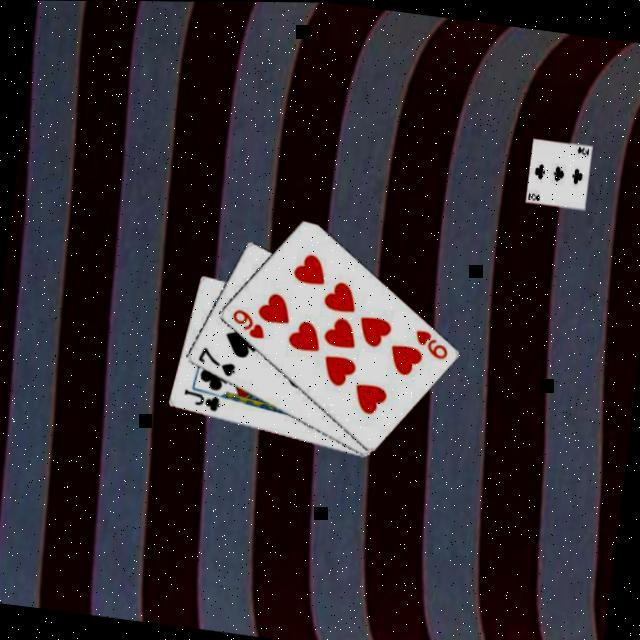7S: (194, 342, 241, 378)
9H: (228, 303, 272, 340), (411, 324, 454, 360)
JC: (180, 383, 226, 412)
